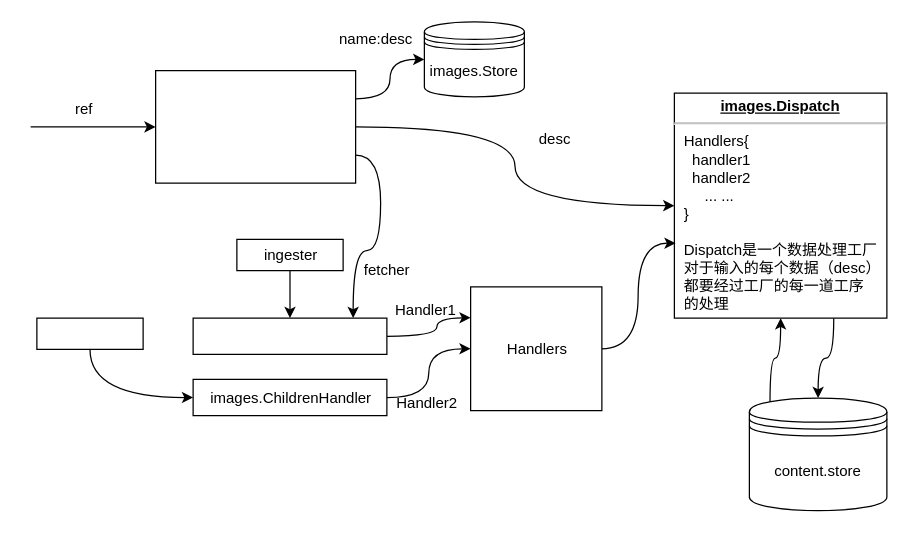
Some shapes in this 909 by 533 pixel diagram are drawn without their labels. The centre of each missing label's shape, as x and y in pixels:
"provider" belongs at point (89, 333).
"remotes.FetchHandler" belongs at point (289, 335).
"Resover 解析输入的ref参数，并返回 对象name ref对应对象的描述结构desc 下载对象实体所需的fetcher" belongs at point (255, 126).
